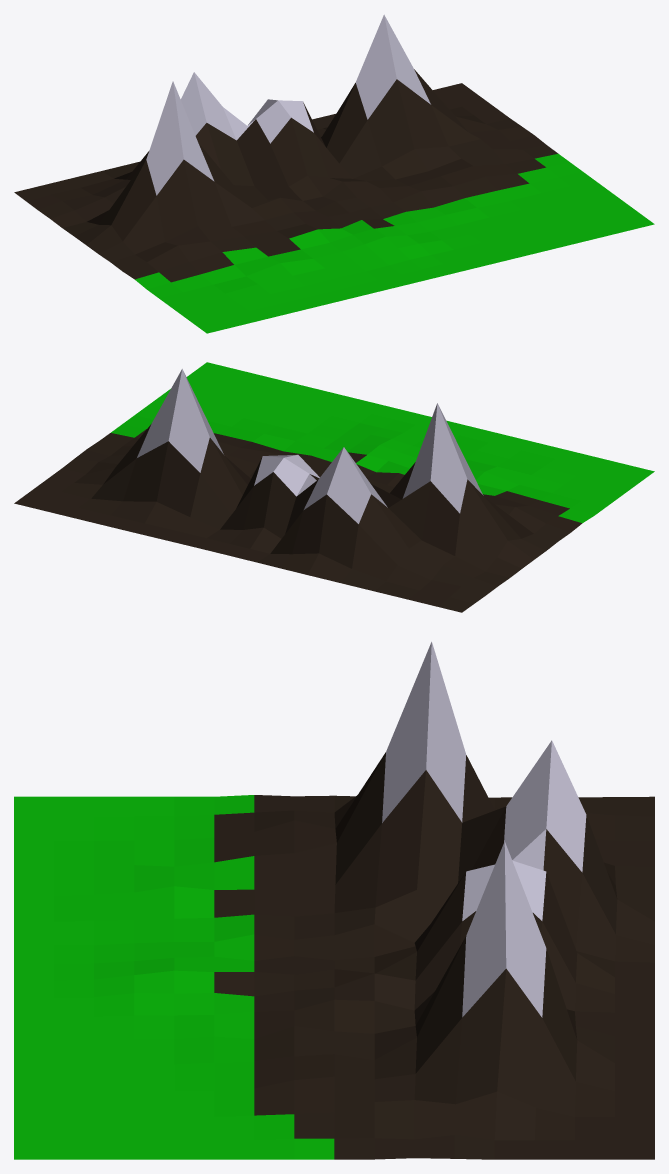
Rendered from lowpolymountains.obj.
3 views of the same model, one above another, from view 1: azimuth 30°, elevation 25°; view 2: azimuth 150°, elevation 25°; view 3: azimuth 270°, elevation 25° (orthographic). The views are drawn at different scales.
Parts seen in each view (by area): view 1: Sahne_Plane; view 2: Sahne_Plane; view 3: Sahne_Plane.
Boxes of the visible parts, x1,y1,x2,y2 form: Sahne_Plane: (14,14,654,333); Sahne_Plane: (14,362,654,612); Sahne_Plane: (14,641,654,1159).
Size of the model in its own units: 21.26 by 6.3 by 15.86.
